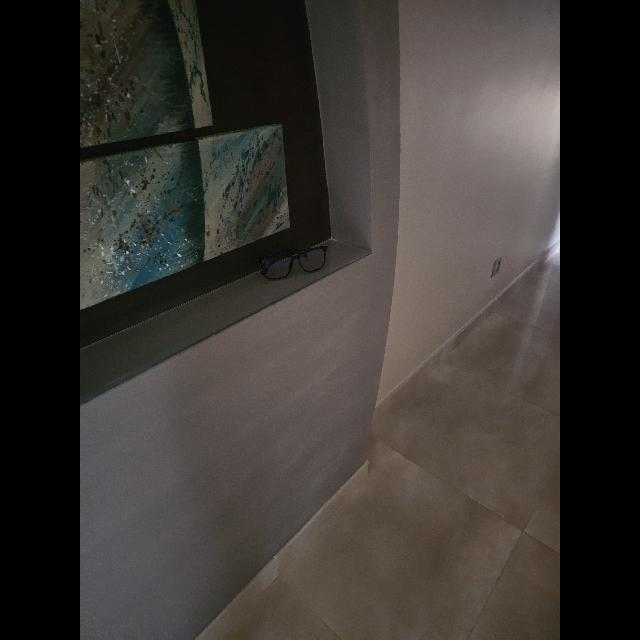glasses: (258, 246, 328, 280)
